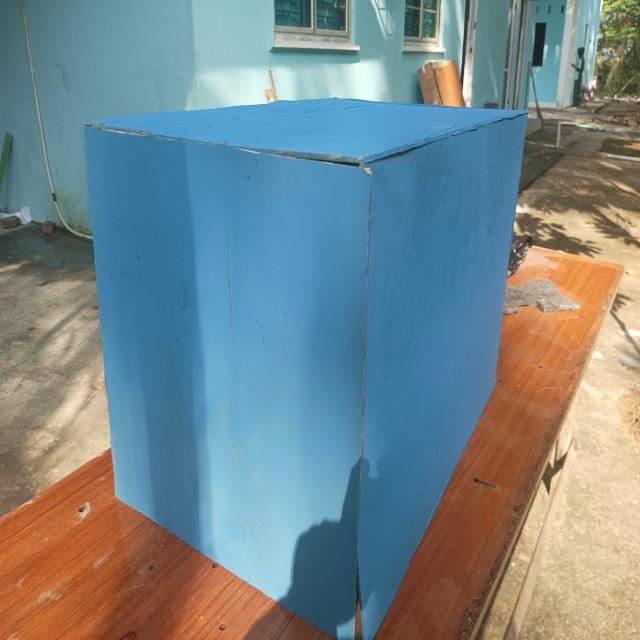blue_box: (64, 44, 532, 640)
